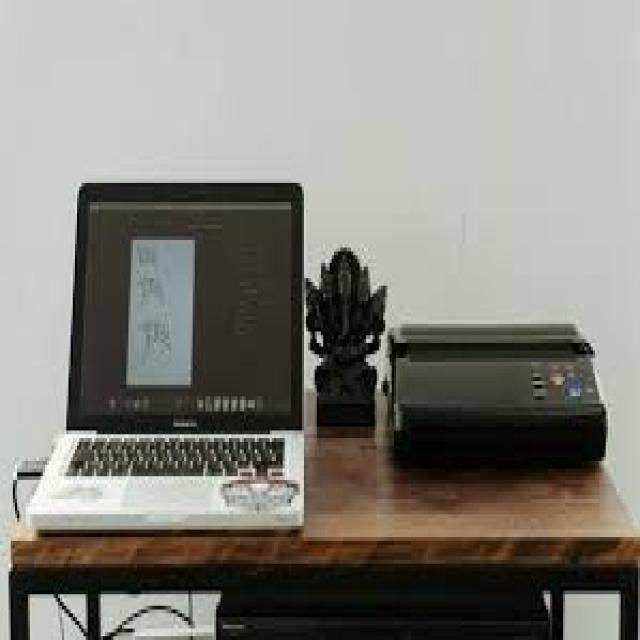printer: (385, 320, 608, 469)
